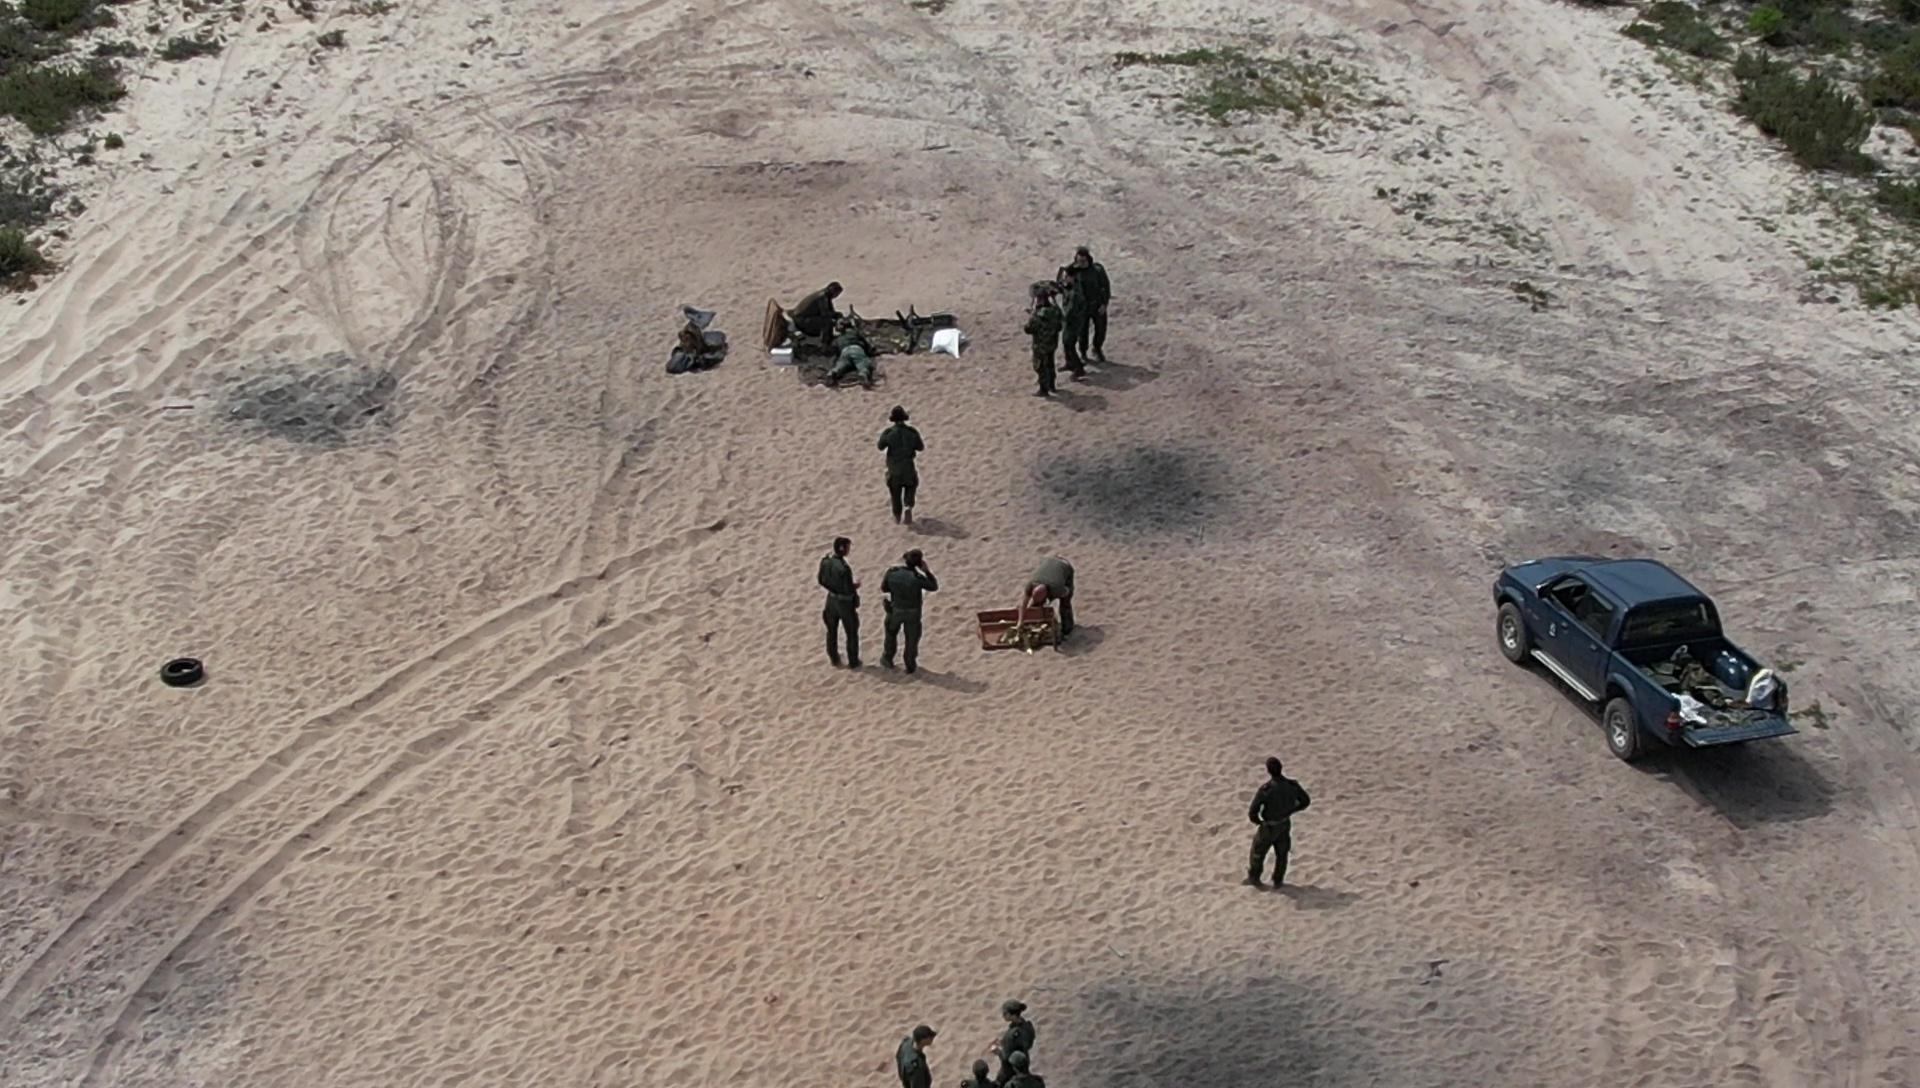Soldier: (808, 529, 876, 708), (1007, 535, 1096, 666), (1245, 752, 1315, 910), (876, 537, 935, 692), (866, 393, 923, 535), (1067, 233, 1122, 378), (781, 261, 847, 359), (1021, 281, 1064, 404), (990, 979, 1048, 1066), (829, 311, 884, 392), (1054, 266, 1083, 394), (884, 1010, 931, 1088)
